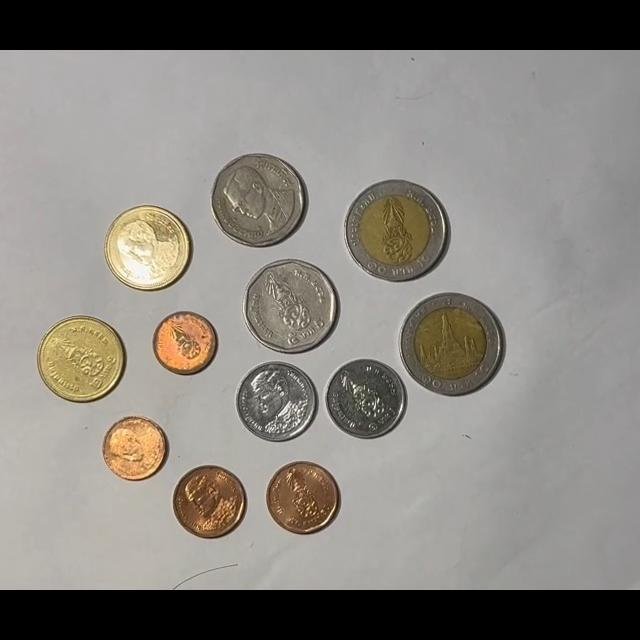1-baht: (235, 361, 318, 442), (325, 358, 406, 440)
10-baht: (399, 292, 503, 395), (344, 180, 448, 282)
2-baht: (37, 315, 125, 403), (104, 205, 191, 292)
25-satang: (102, 416, 169, 482), (153, 311, 218, 375)
5-baht: (211, 153, 308, 248), (243, 259, 338, 354)
50-satang: (172, 465, 248, 539), (265, 461, 339, 535)
